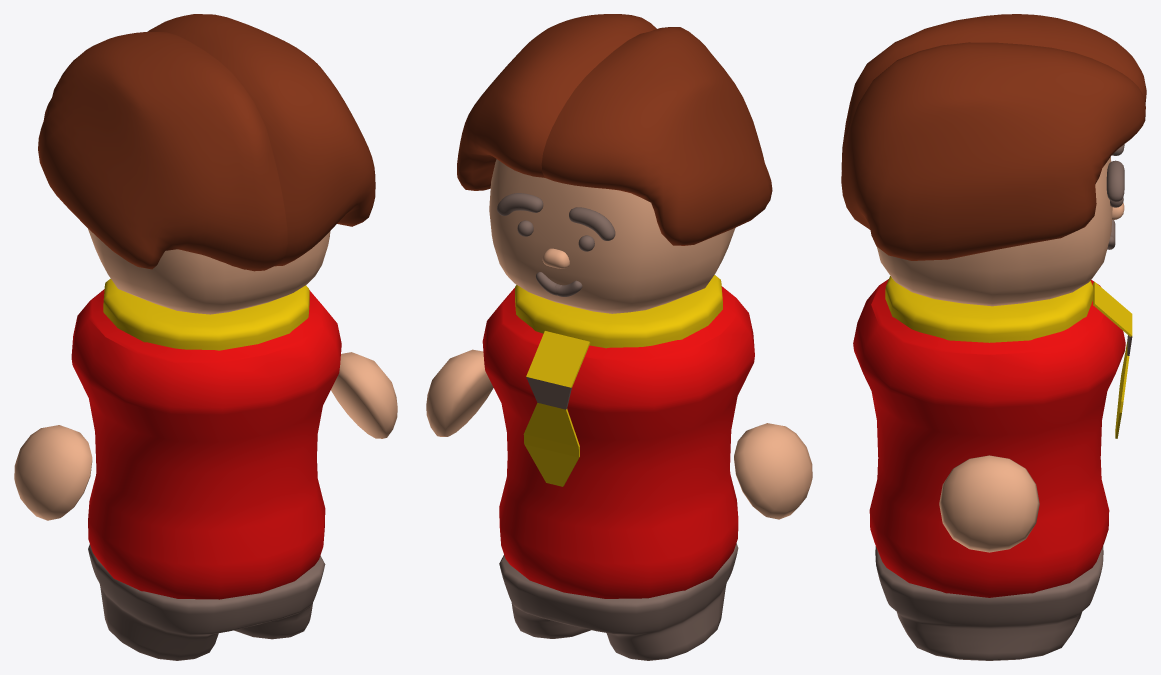
Rendered from player.glb.
3 views of the same model, side by side, from view 1: azimuth 30°, elevation 25°; view 2: azimuth 150°, elevation 25°; view 3: azimuth 270°, elevation 25° (orthographic).
Parts seen in each view (by area): view 1: face, torso, pants, hanfs, tie; view 2: face, torso, pants, hanfs, tie, tier; view 3: face, torso, pants, hanfs, tie, tier.
Boxes of the visible parts, x1=… form: face: x1=38, y1=14, x2=375, y2=314; torso: x1=71, y1=289, x2=341, y2=599; pants: x1=88, y1=544, x2=325, y2=660; hanfs: x1=14, y1=352, x2=397, y2=520; tie: x1=103, y1=278, x2=309, y2=350; face: x1=457, y1=14, x2=772, y2=313; torso: x1=482, y1=286, x2=754, y2=598; pants: x1=499, y1=543, x2=738, y2=660; hanfs: x1=426, y1=349, x2=812, y2=519; tie: x1=515, y1=275, x2=722, y2=348; tier: x1=523, y1=331, x2=590, y2=486; face: x1=841, y1=14, x2=1146, y2=306; torso: x1=853, y1=279, x2=1125, y2=597; pants: x1=875, y1=546, x2=1103, y2=660; hanfs: x1=939, y1=455, x2=1039, y2=552; tie: x1=885, y1=276, x2=1093, y2=342; tier: x1=1093, y1=281, x2=1132, y2=438.
Bounding box in the file's own units: 3.51 × 5.28 × 2.49.
